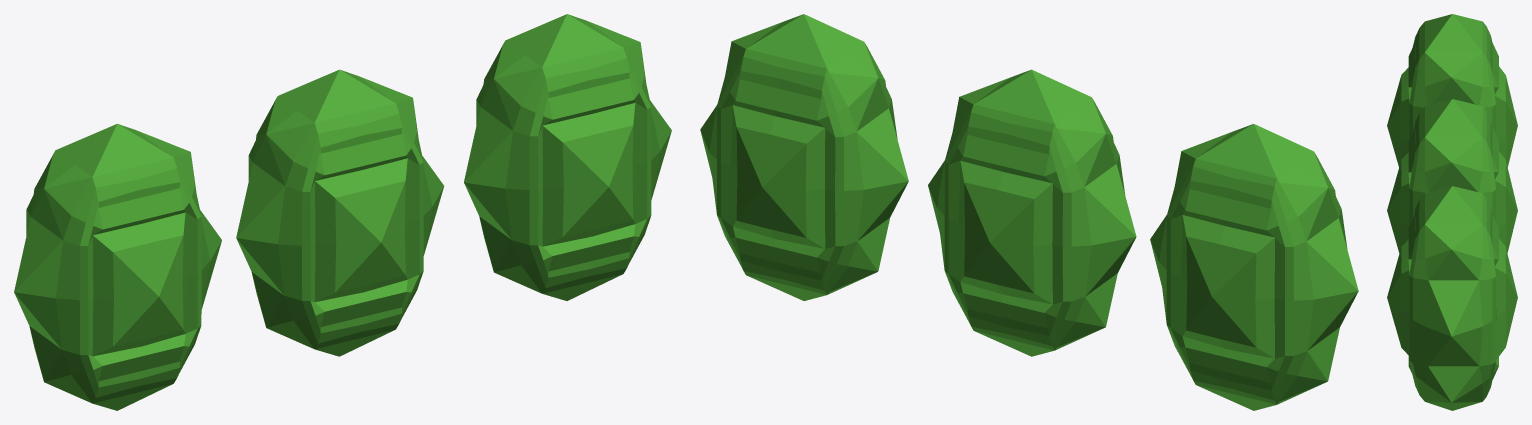
Rendered from green gems.fbx.
3 renders of one model, left to right at view 1: azimuth 30°, elevation 25°; view 2: azimuth 150°, elevation 25°; view 3: azimuth 270°, elevation 25°, orthographic. The views are drawn at different scales.
Visible parts, largest first — view 1: pCube10; view 2: pCube10; view 3: pCube10.
Boxes of the visible parts, bbox=[...] form: pCube10: bbox=[14, 14, 671, 410]; pCube10: bbox=[700, 14, 1358, 410]; pCube10: bbox=[1387, 14, 1517, 410].
Size of the model in its own units: 5.67 by 2.36 by 1.25.
